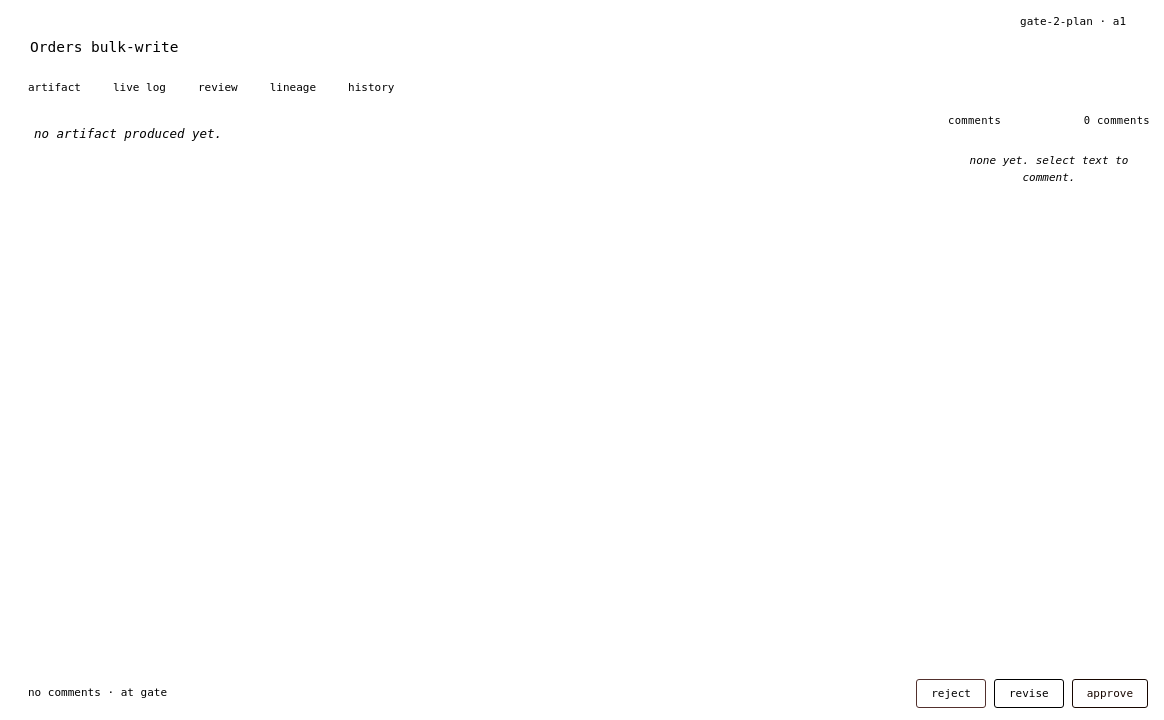
Test: CardDrawer › renders a lineage tab that can be selected
The width and height of the screenshot is (1164, 720).
Click the tab "lineage" at (293, 88), box [254,72,332,103]
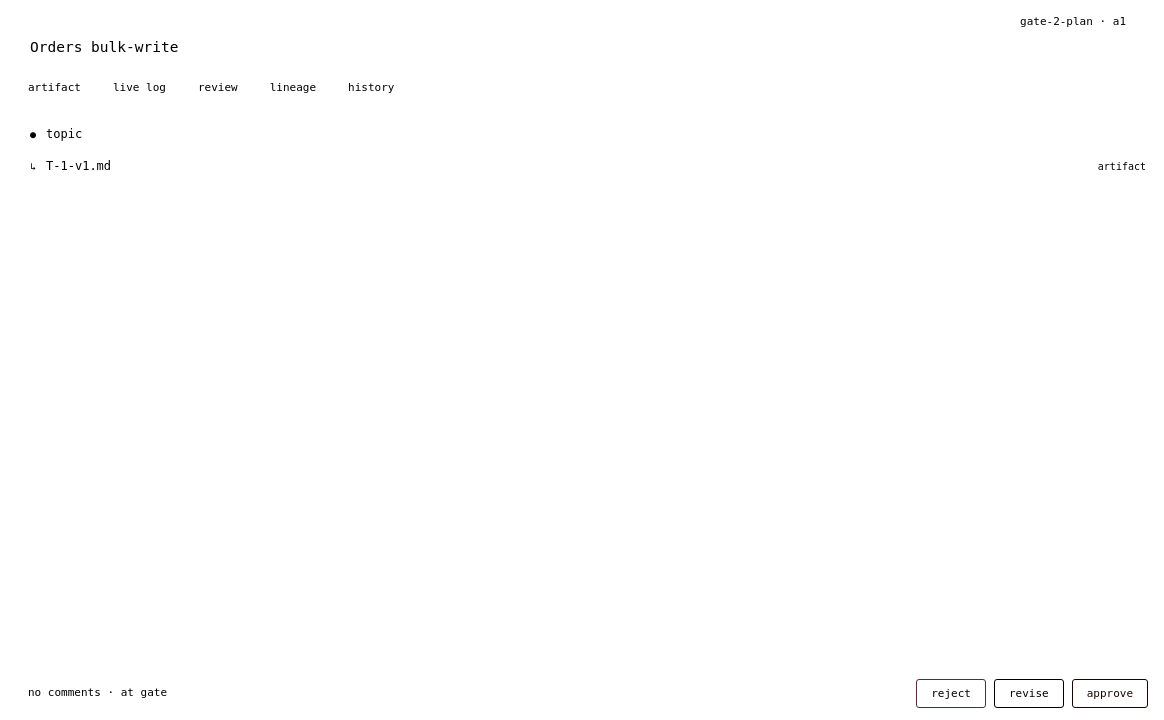
Result: the text "topic" is shown at [46,125,82,143]
